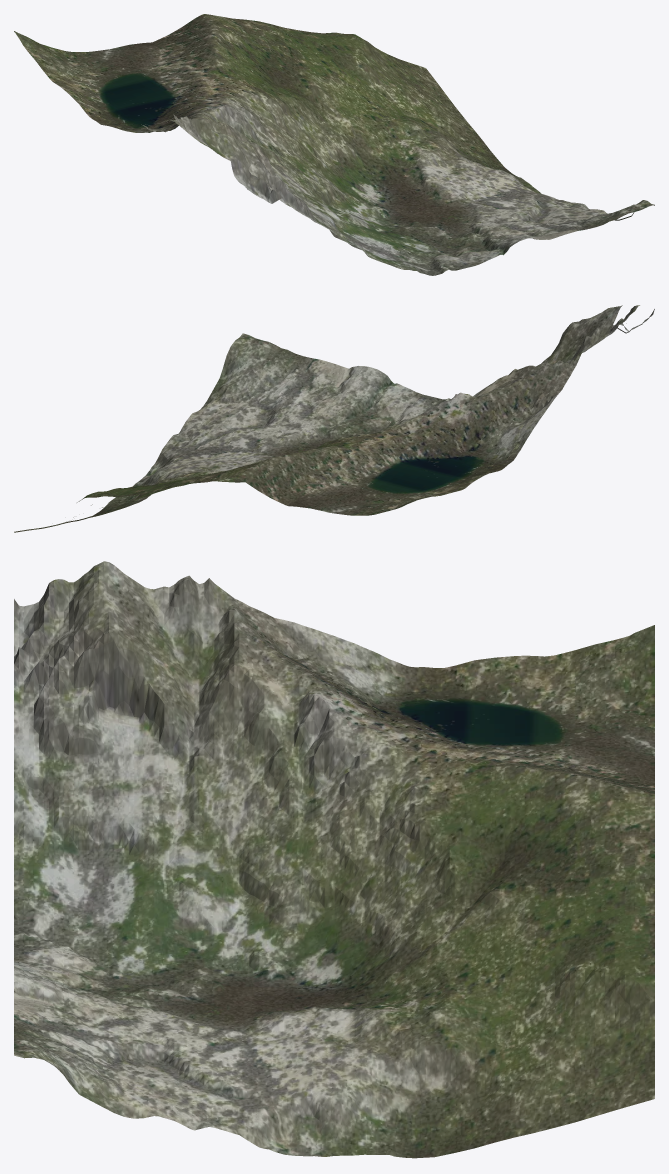
3 renders of one model, top to bottom at view 1: azimuth 30°, elevation 25°; view 2: azimuth 150°, elevation 25°; view 3: azimuth 270°, elevation 25°, orthographic. The views are drawn at different scales.
Bounding box in the file's own units: 1000 × 525 × 963.
Materials: 1 (1 with a texture image).
